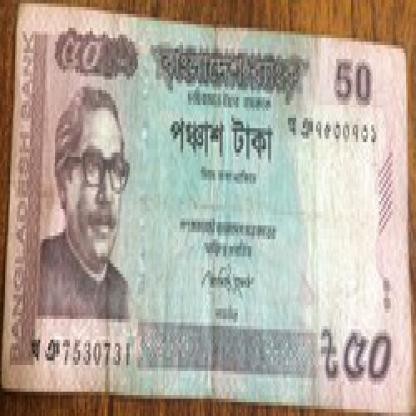Fifty taka: (323, 319, 399, 399), (46, 24, 104, 83)
